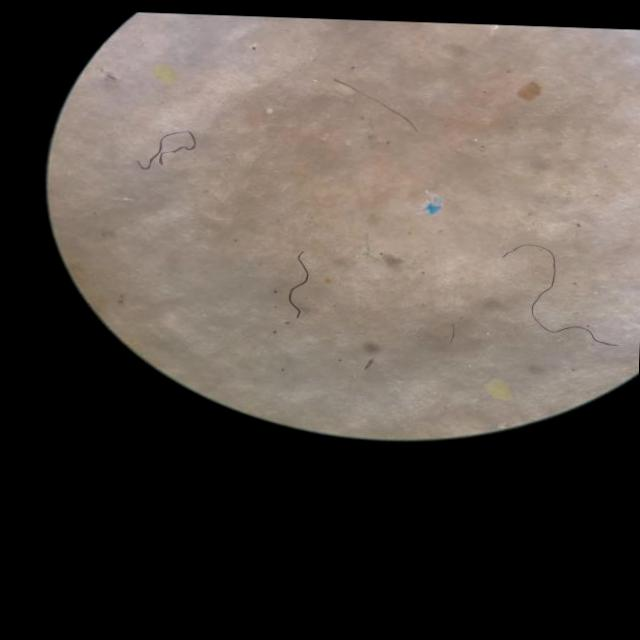fiber: (503, 244, 608, 344), (333, 80, 414, 129), (137, 132, 193, 169), (288, 252, 308, 317)
film: (423, 197, 439, 214)
fragment: (486, 380, 508, 399), (153, 66, 174, 84), (517, 82, 539, 99)
pellet: (264, 107, 272, 114)
